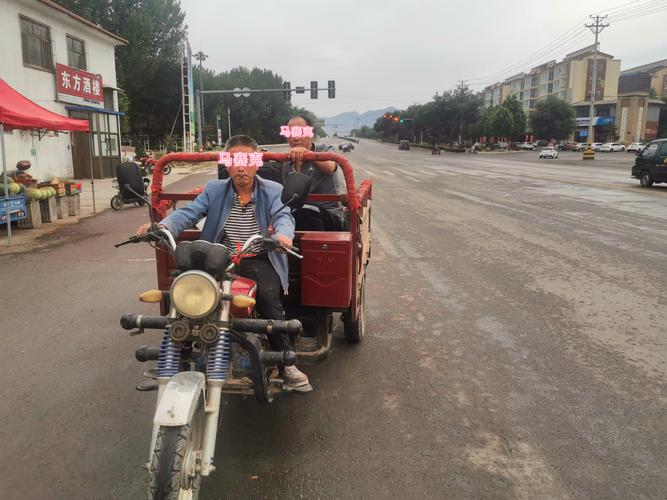driver: (171, 133, 302, 375)
overloading: (127, 111, 393, 471)
passenger: (272, 113, 368, 245)
